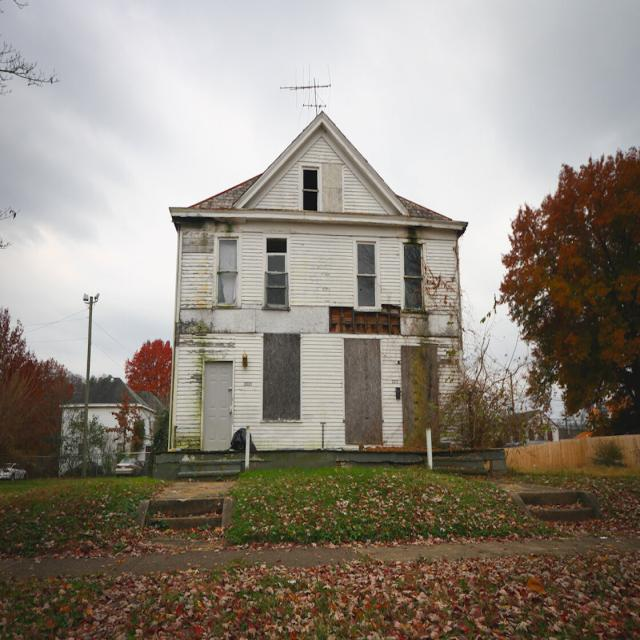House: (156, 111, 504, 481), (57, 377, 167, 477)
